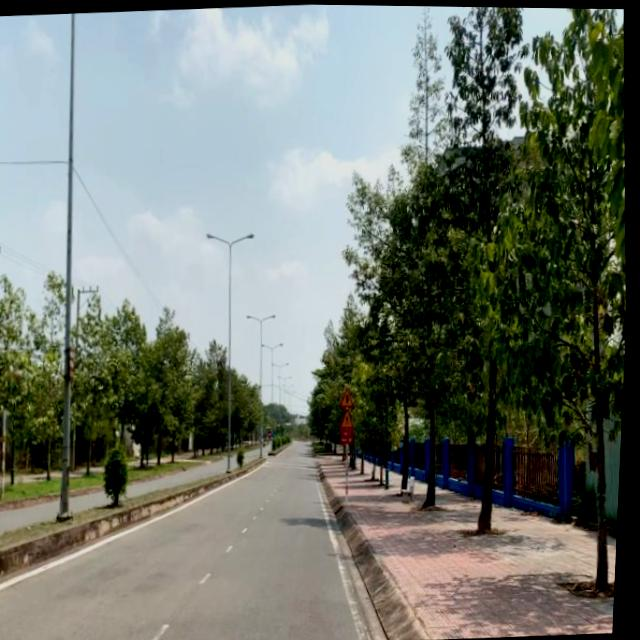Giao nhau voi duong khong uu tien ben phai: (343, 386, 359, 407)
Nguoi di bo cat ngang: (344, 407, 358, 428)
